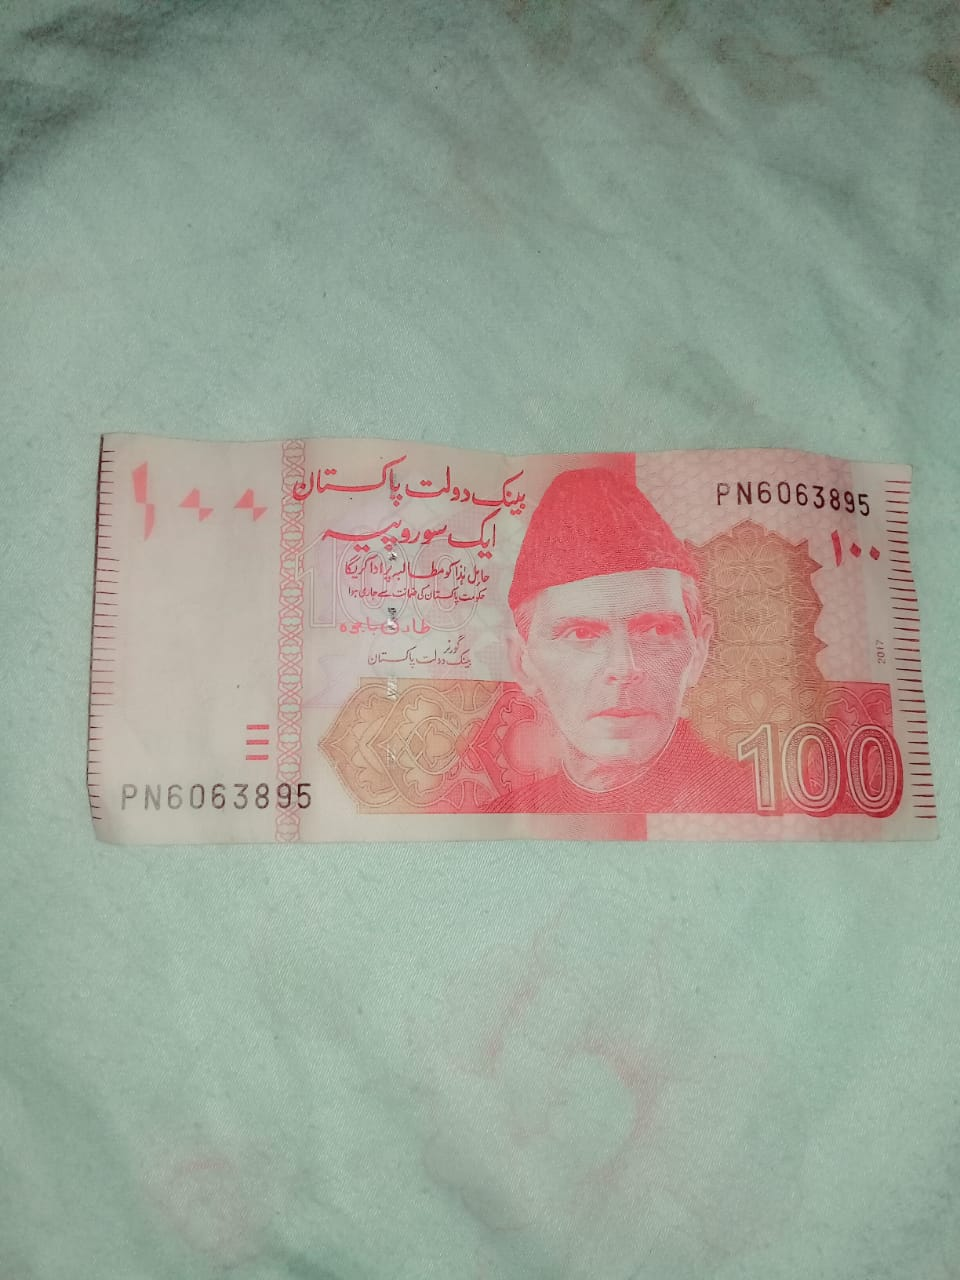100 rupee: (61, 417, 957, 855)
